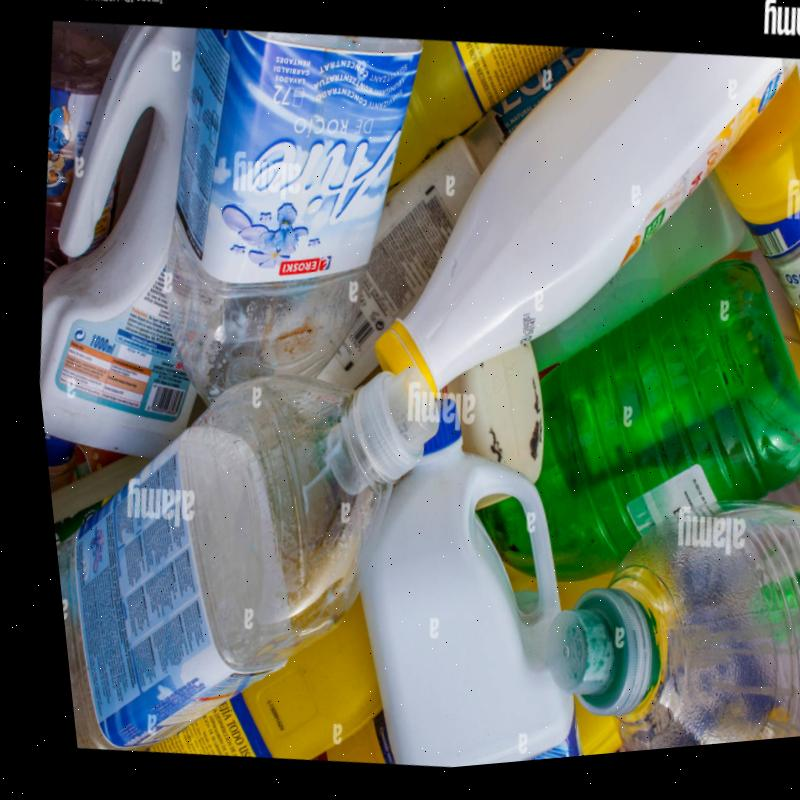botella: (45, 359, 437, 752), (458, 258, 800, 591), (145, 27, 418, 402), (505, 477, 800, 768)
